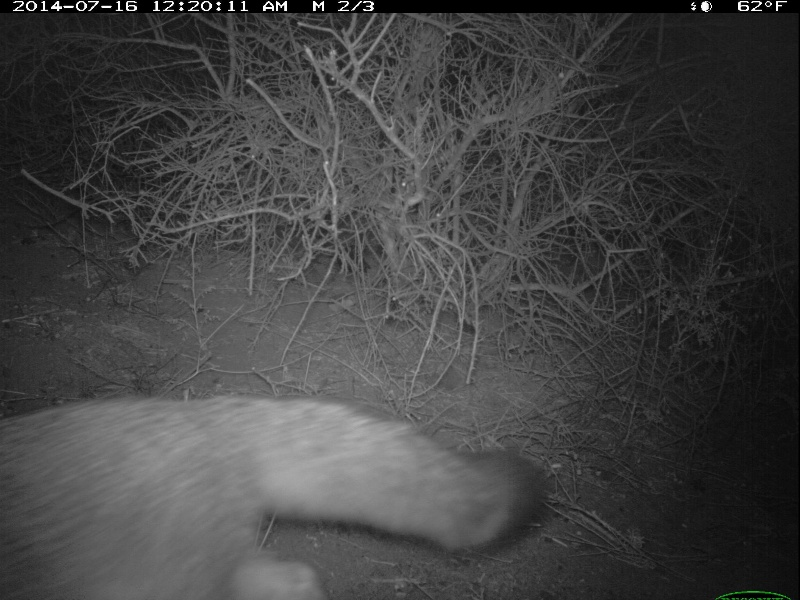coyote: (1, 393, 551, 600)
